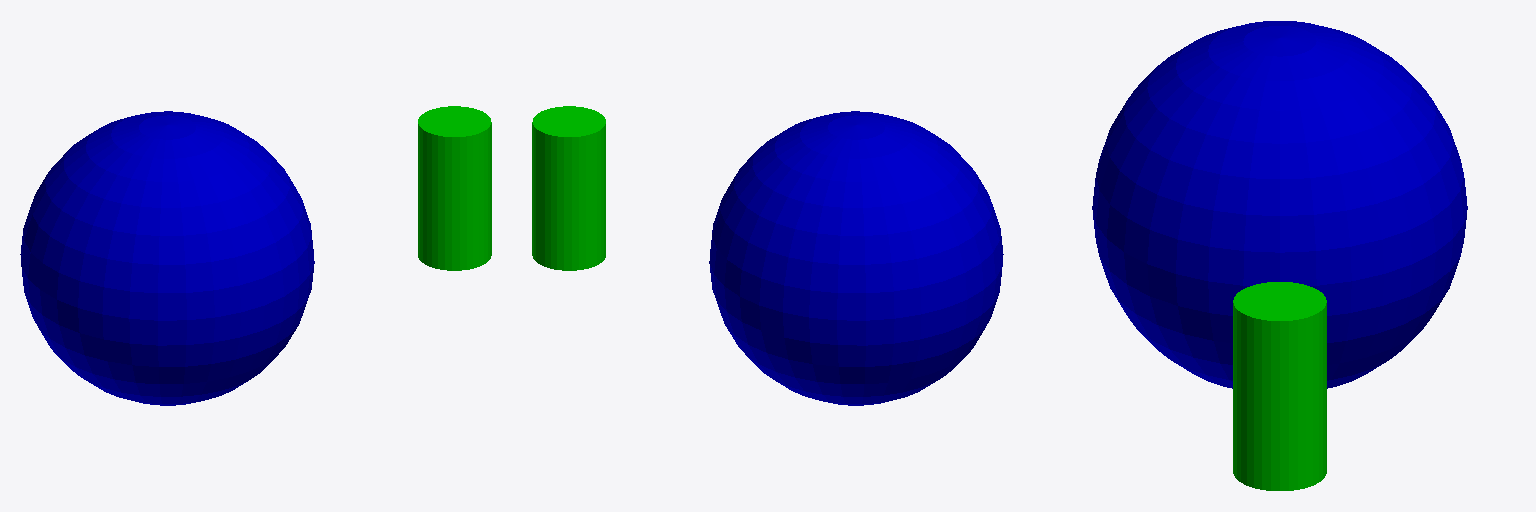
URDF robot description (A_vs_B):
<?xml version="1.0"?>
<robot name="A_vs_B">
  <material name="blue">
    <color rgba="0 0 0.8 .5"/>
  </material>
  <material name="green">
    <color rgba="0 0.8 0 .5"/>
  </material>
  <link name="A">
    <visual>
      <geometry>
        <sphere radius="1"/>
      </geometry>
      <origin rpy="0.0 0 0" xyz="-1.5 0 0"/>
      <material name="blue"/>
    </visual>
    <collision>
      <geometry>
        <sphere radius="1"/>
      </geometry>
      <origin rpy="0.0 0 0" xyz="-1.5 0 0"/>
      <material name="blue"/>
    </collision>
  </link>
  <link name="B">
    <visual>
      <geometry>
        <cylinder radius=".25" length="1"/>
      </geometry>
      <origin rpy="0 0 0" xyz="0.75 0 0"/>
      <material name="green"/>
    </visual>
    <collision>
      <geometry>
        <cylinder radius=".25" length="1"/>
      </geometry>
      <origin rpy="0 0 0" xyz="0.75 0 0"/>
      <material name="green"/>
    </collision>
  </link>
  <joint name="joint1" type="revolute">
    <axis xyz="0 0 1"/>
    <limit effort="1" lower="-1" upper="1" velocity="1"/>
    <origin rpy="0 0 0" xyz="0 0 0"/>
    <parent link="A"/>
    <child link="B"/>
  </joint>
</robot>

--- What the picture shows (computed from the rendered views, not written in the file) ---
Views: 3 orthographic renders of the robot side by side, from view 1: azimuth 30°, elevation 25°; view 2: azimuth 150°, elevation 25°; view 3: azimuth 270°, elevation 25°.
Robot: A_vs_B — 2 links, 1 joints (1 revolute); root link A; default pose: every joint at zero.
Links seen in each view (by area): view 1: A, B; view 2: A, B; view 3: A, B.
Boxes of the visible links, left/top/right/bottom form: A: left=20, top=111, right=314, bottom=405; B: left=418, top=106, right=491, bottom=270; A: left=709, top=111, right=1003, bottom=405; B: left=532, top=106, right=605, bottom=270; A: left=1092, top=21, right=1467, bottom=388; B: left=1233, top=282, right=1326, bottom=490.
Size in the robot's own frame: 3.5 by 2 by 2 metres.
Geometry: primitives only (box / cylinder / sphere), no mesh files.